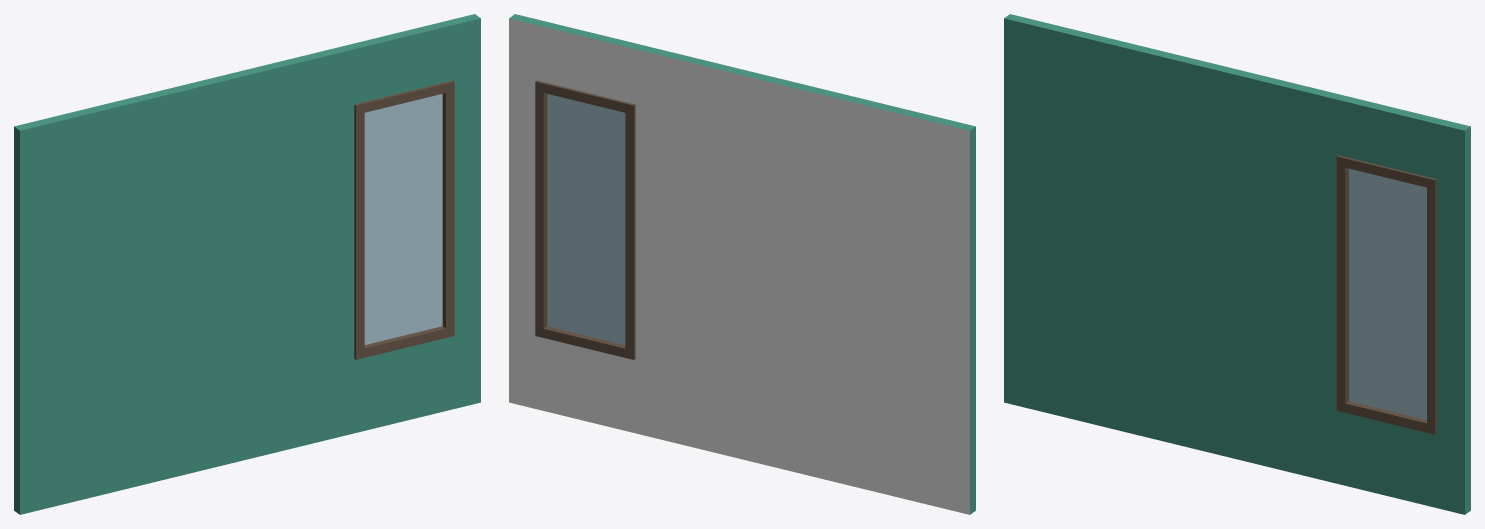
The model's file is Wall_7.fbx.
3 views of the same model, side by side, from view 1: azimuth 30°, elevation 25°; view 2: azimuth 150°, elevation 25°; view 3: azimuth 330°, elevation 25° (orthographic).
Parts seen in each view (by area): view 1: Wall_7; view 2: Wall_7; view 3: Wall_7.
Boxes of the visible parts, x1=… form: Wall_7: x1=14, y1=14, x2=480, y2=514; Wall_7: x1=509, y1=14, x2=975, y2=514; Wall_7: x1=1004, y1=14, x2=1470, y2=514.
Size of the model in its own units: 489 by 17.02 by 390.
